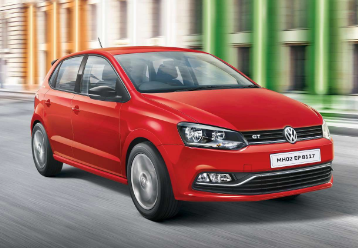car: (27, 42, 339, 224)
